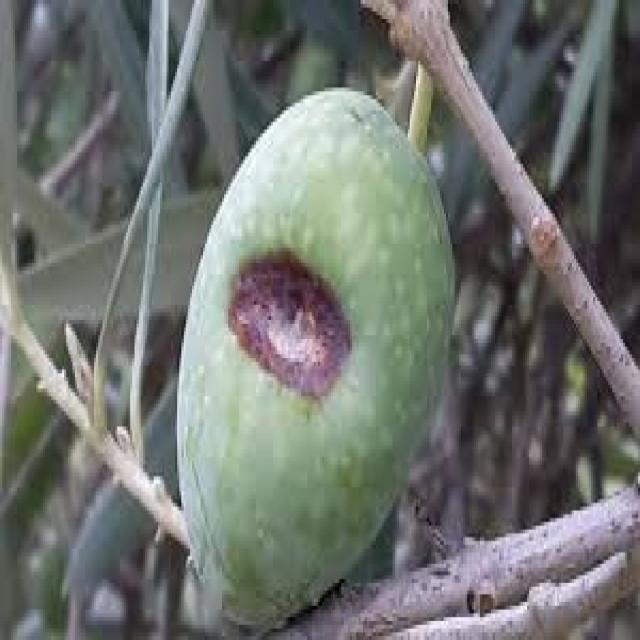Olive Fruit Fly: (178, 88, 454, 635)
